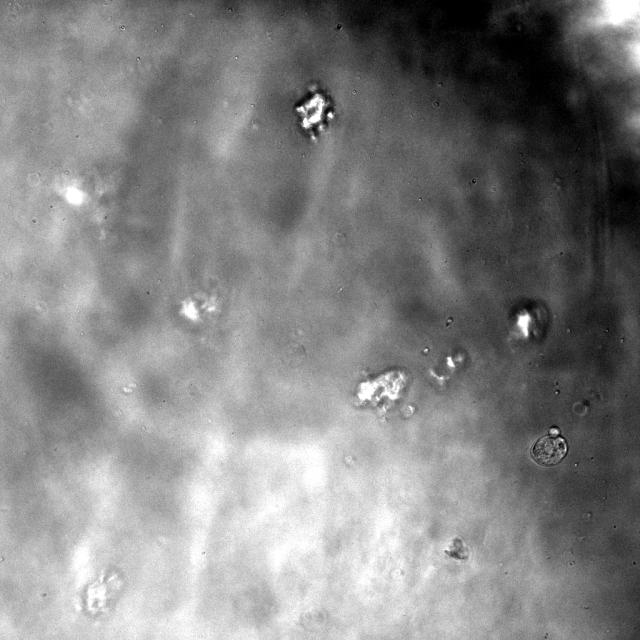organoid: (354, 368, 411, 415), (294, 85, 334, 140), (509, 299, 550, 343), (531, 426, 568, 466), (444, 538, 469, 560)
